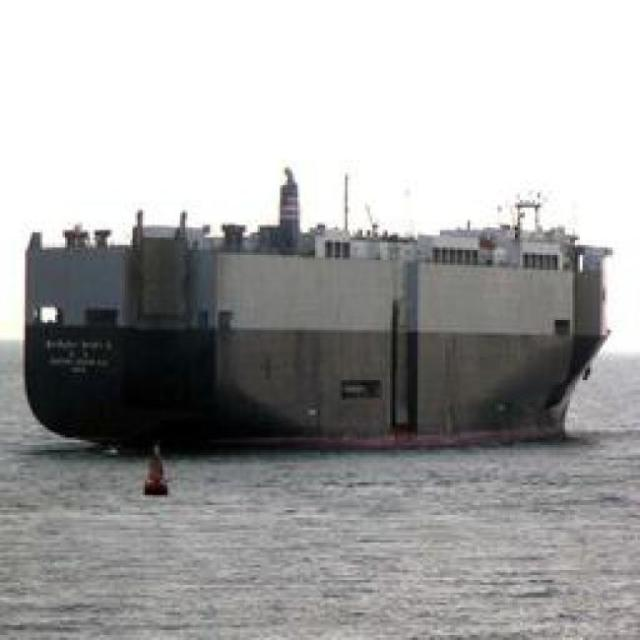boat: (24, 225, 608, 457)
